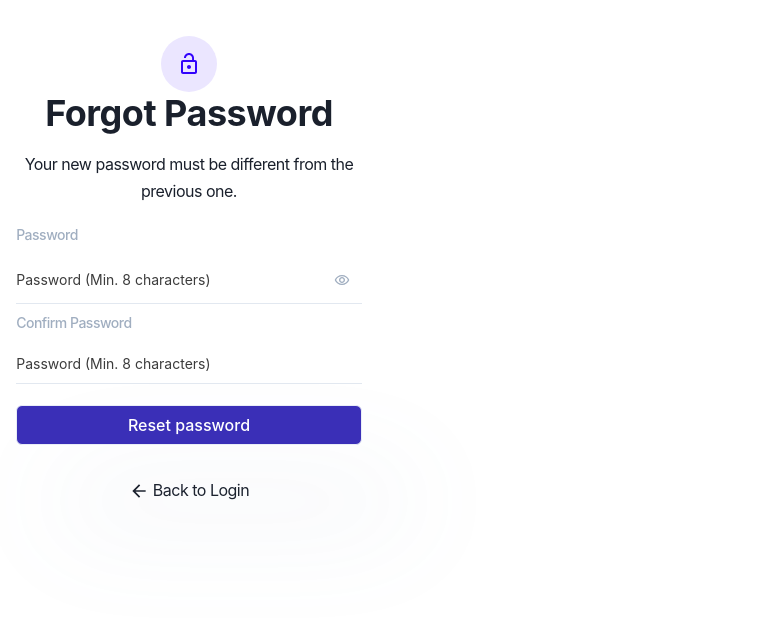
Test: SetPassword Page › should show error toast on password reset failure
Note: Enter valid password and confirm password
Type "newPassword123" into the password field named "password" at (189, 280), box [16,256,362,304]
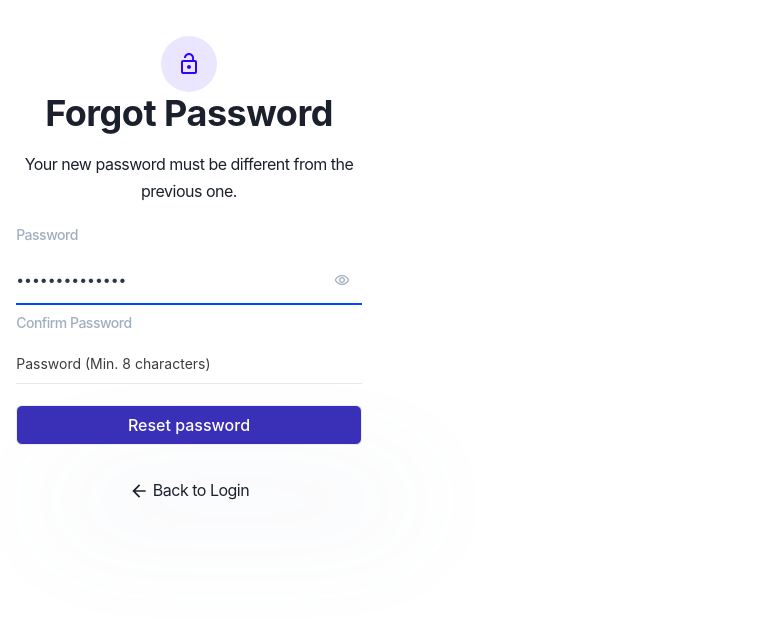
Type "newPassword123" into the password field named "confirmPassword" at (189, 364), box [16,344,362,384]
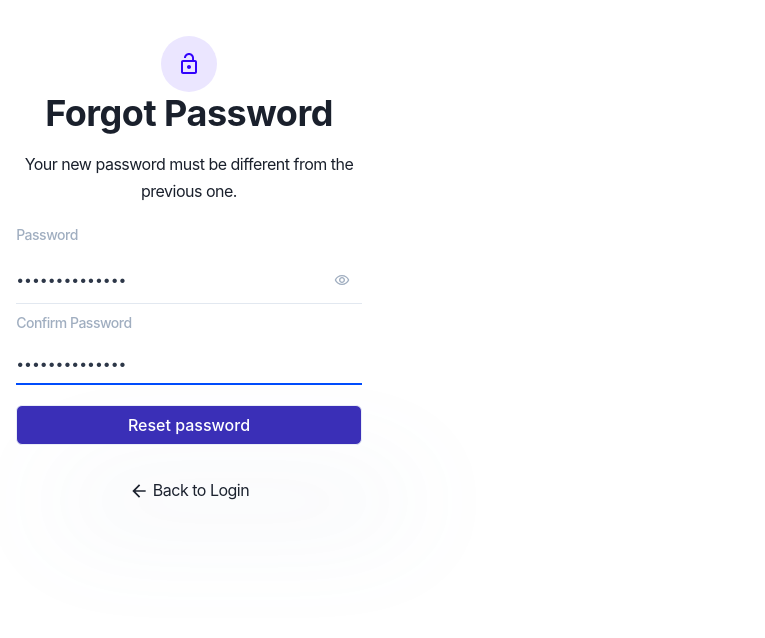
Note: Click on the "Reset password" button
Click the submit button at (189, 425), box [16,405,362,445]
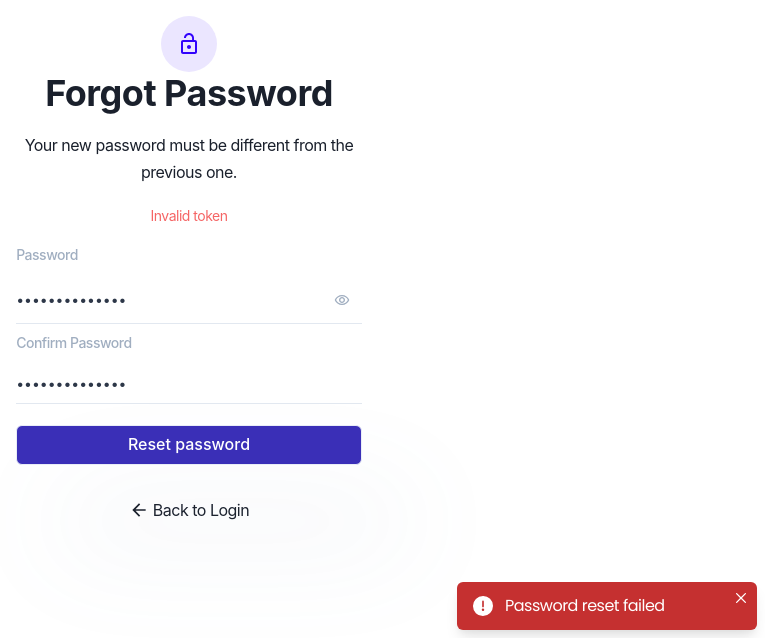
Check: the text "Password reset failed" is shown, box [505,594,665,617]
Check: the text "Invalid token" is shown, box [150,207,227,224]
